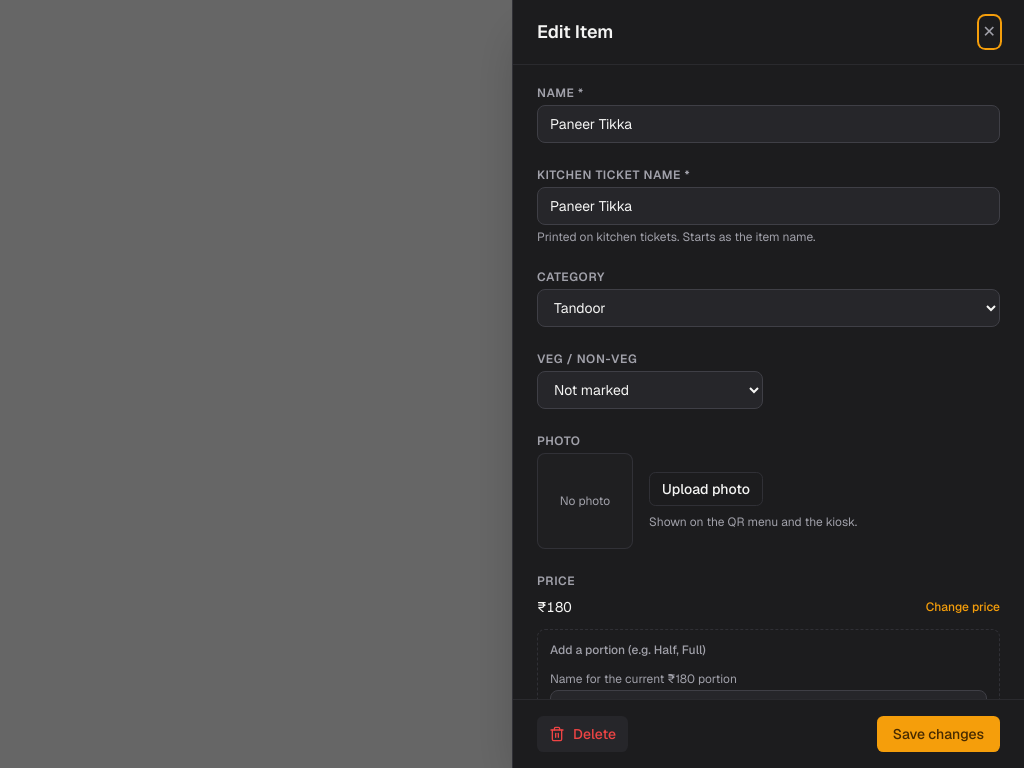
Test: ItemDrawer open/close and field editing › says the item needs a name instead of saving it without one
The image size is (1024, 768).
Clear the field with test id "item-name-input" at (768, 124), box [537, 105, 1000, 143]
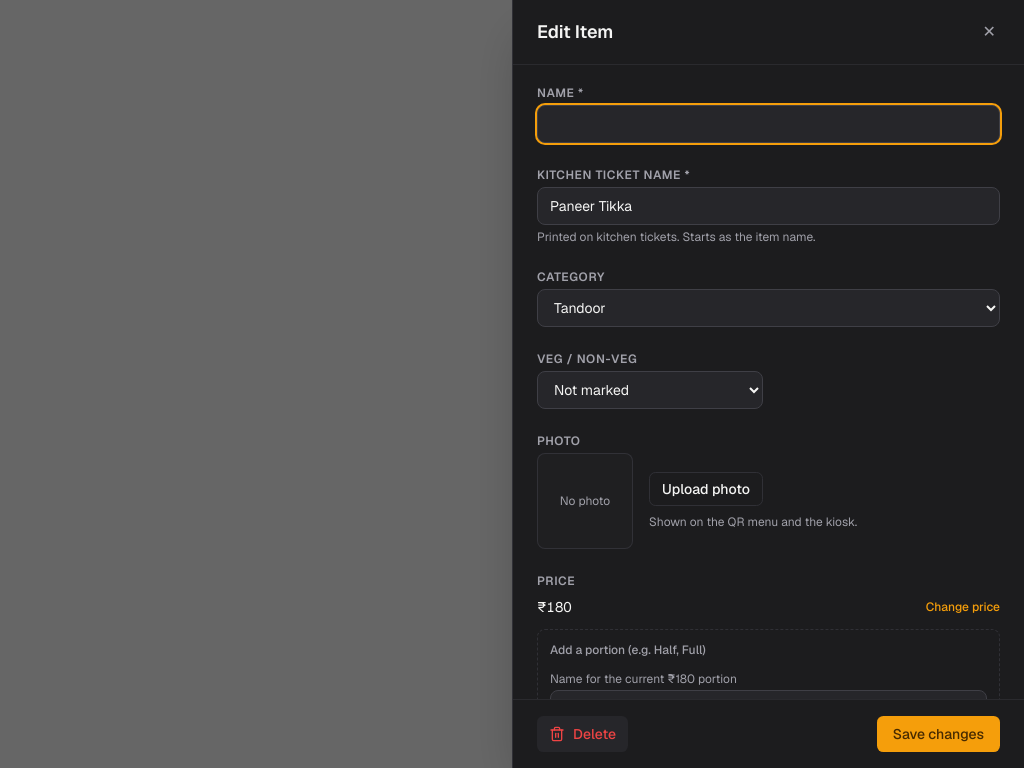
Click the button with test id "item-save" at (938, 734), box [877, 716, 1000, 752]
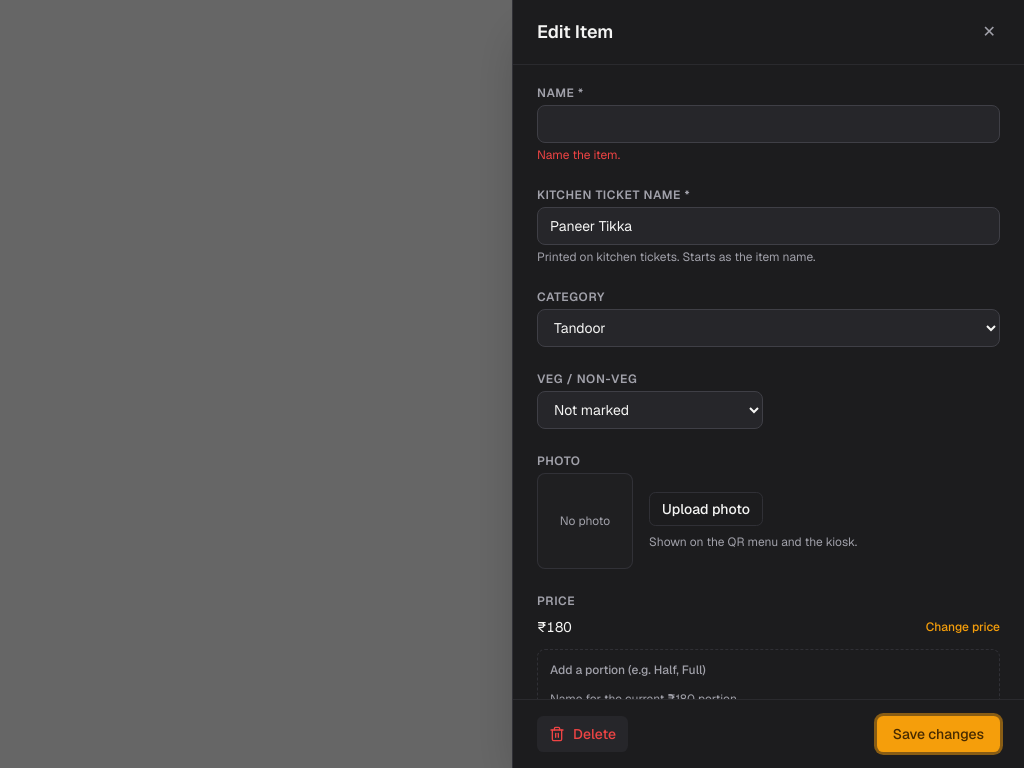
Now the text with test id "item-name-error" reads "Name the item.", box [537, 147, 620, 163]
